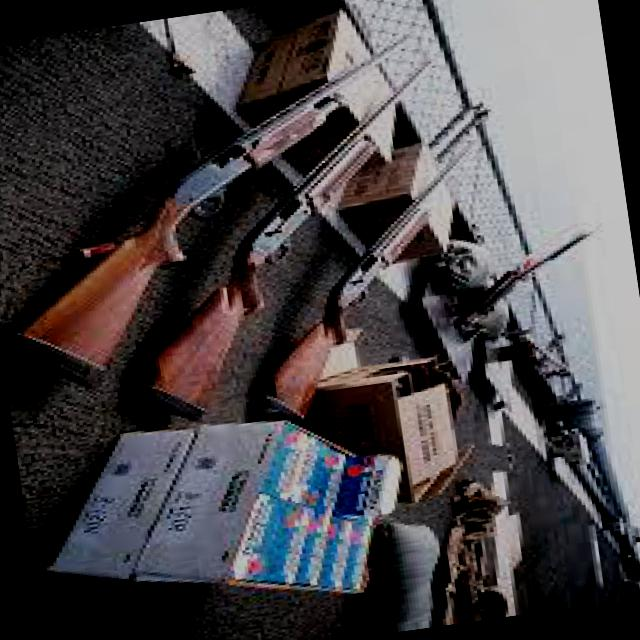long weapon: (0, 14, 446, 388), (110, 38, 469, 414), (236, 86, 524, 421)
